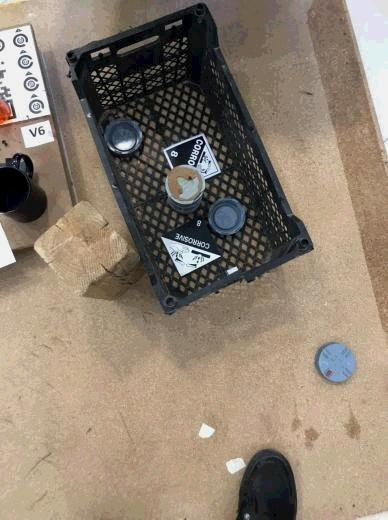corrosive: (161, 214, 222, 277), (162, 133, 220, 180)
